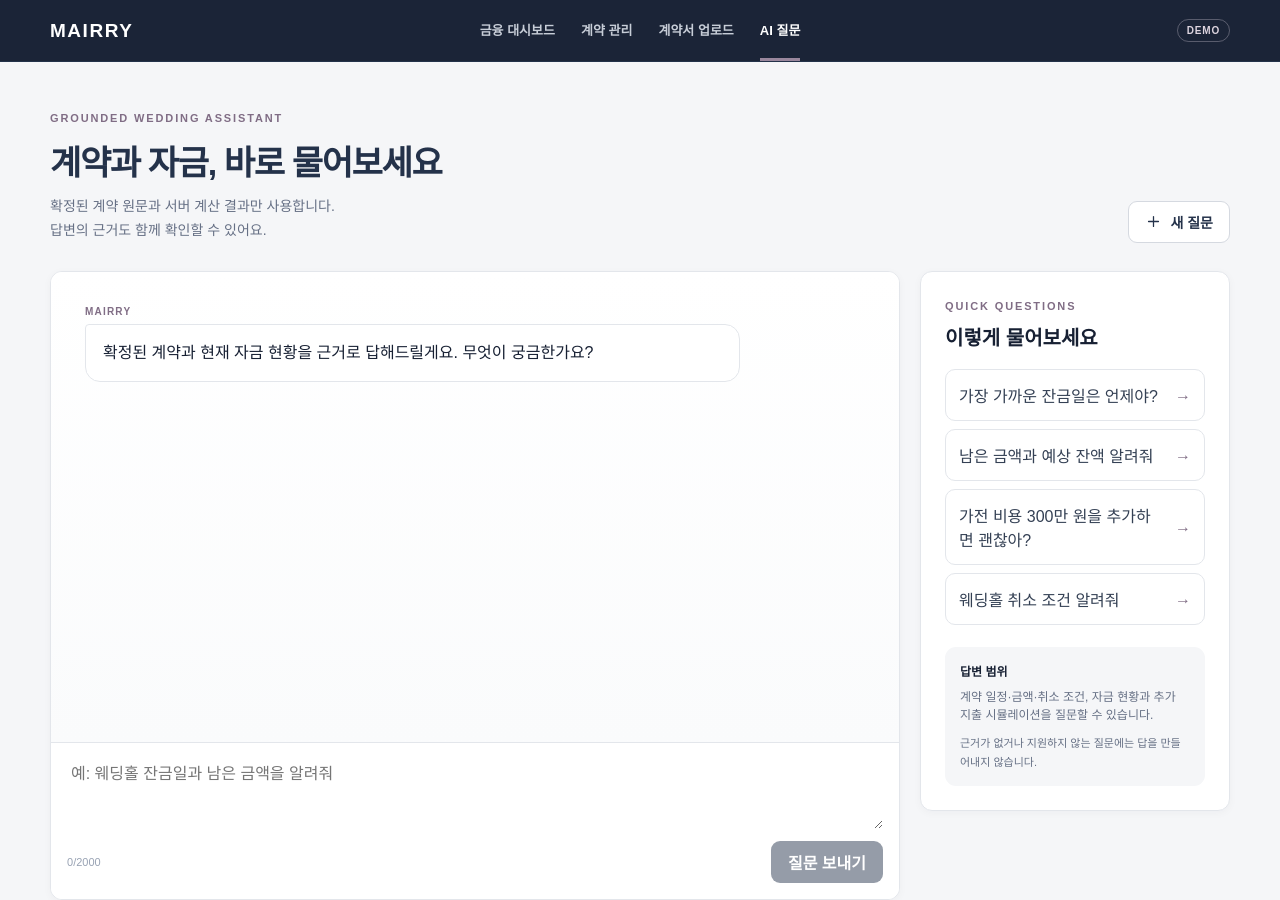
Test case: ChatPage › renders a RAG citation with source type and page without a fake link
In the text box named "AI 플래너에게 질문하기": (475, 794) [67,759,883,829], type "위약금이 뭐야?"
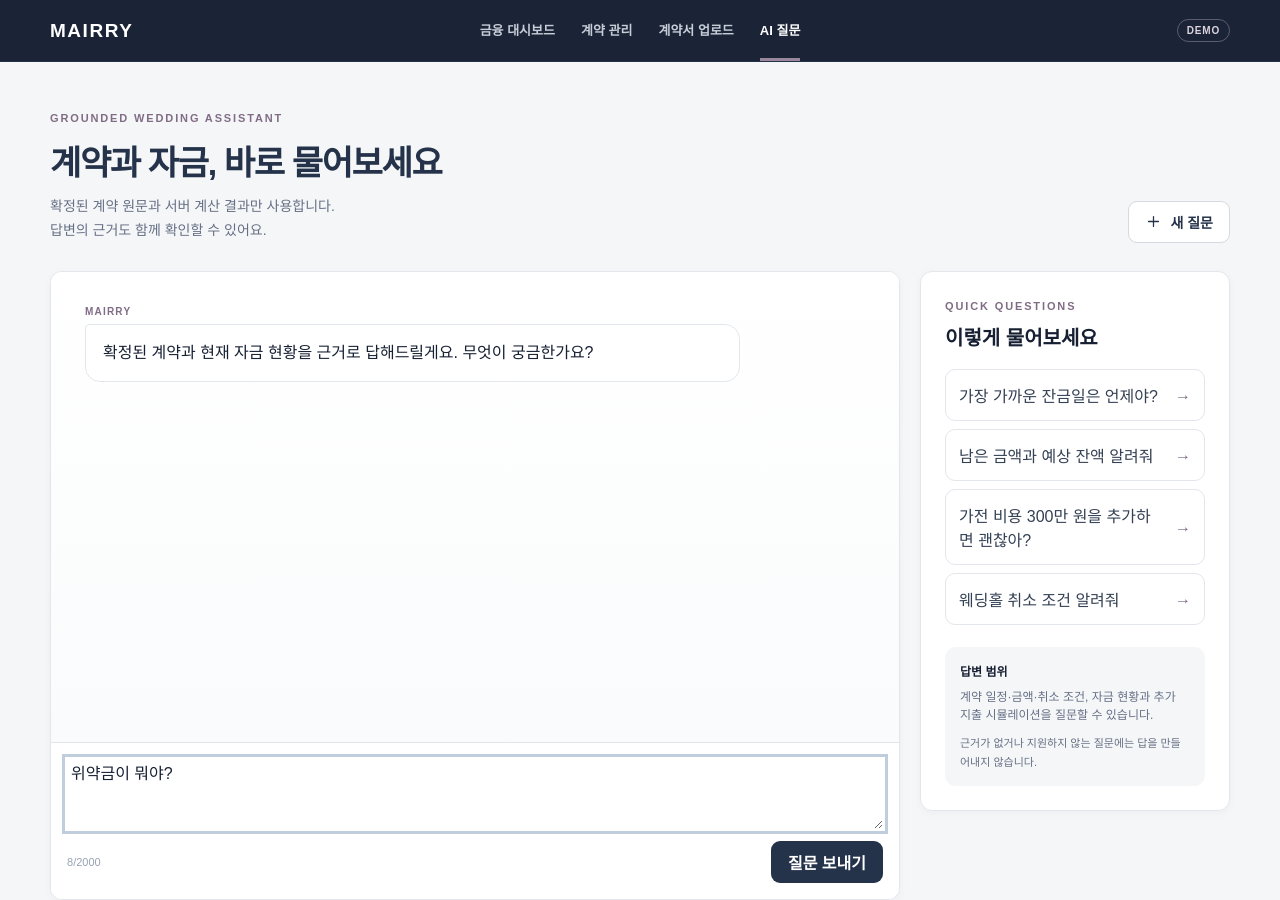
Click the button "질문 보내기": (827, 862) [771,841,883,883]
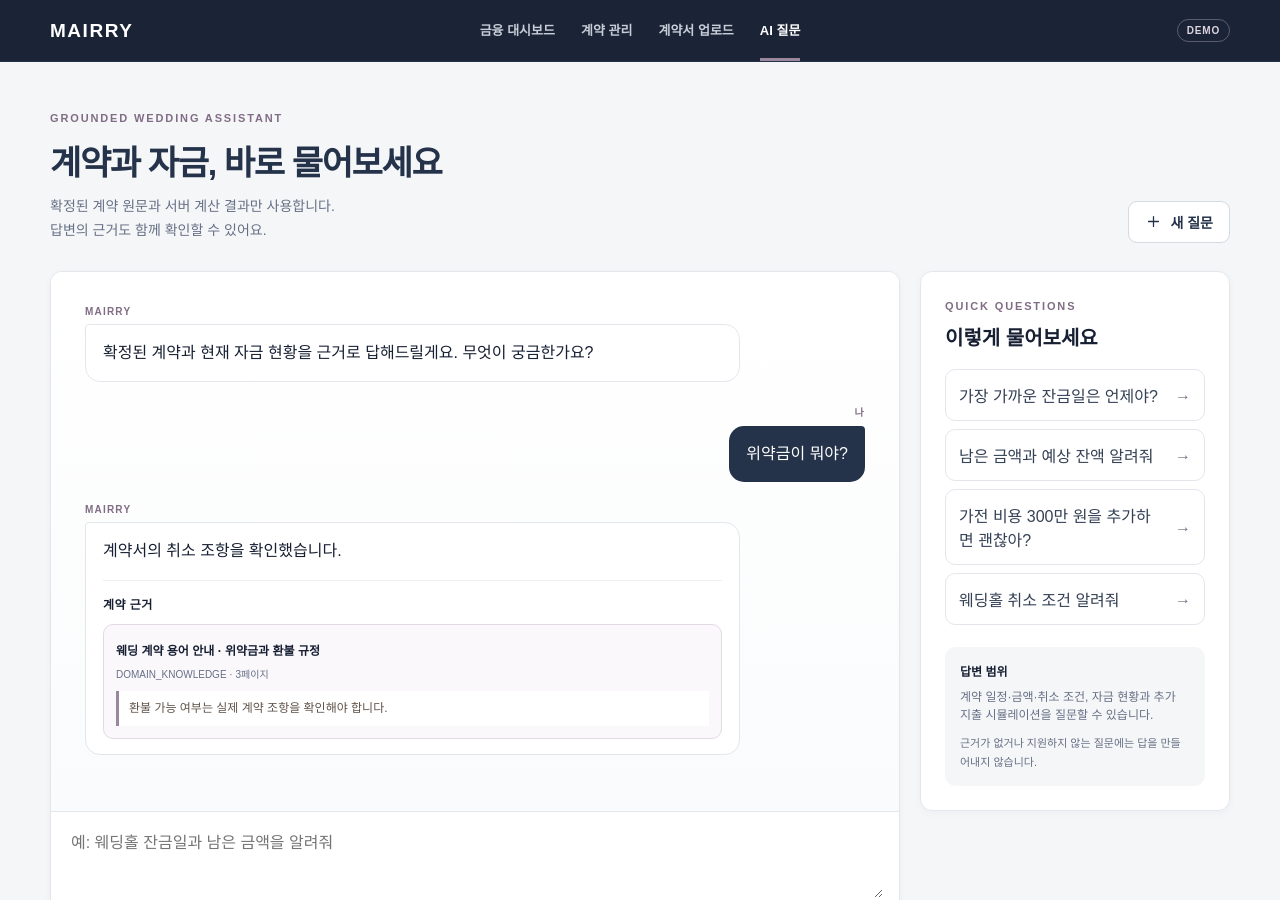
Result: the text "DOMAIN_KNOWLEDGE · 3페이지" is shown at [116,669,269,680]
